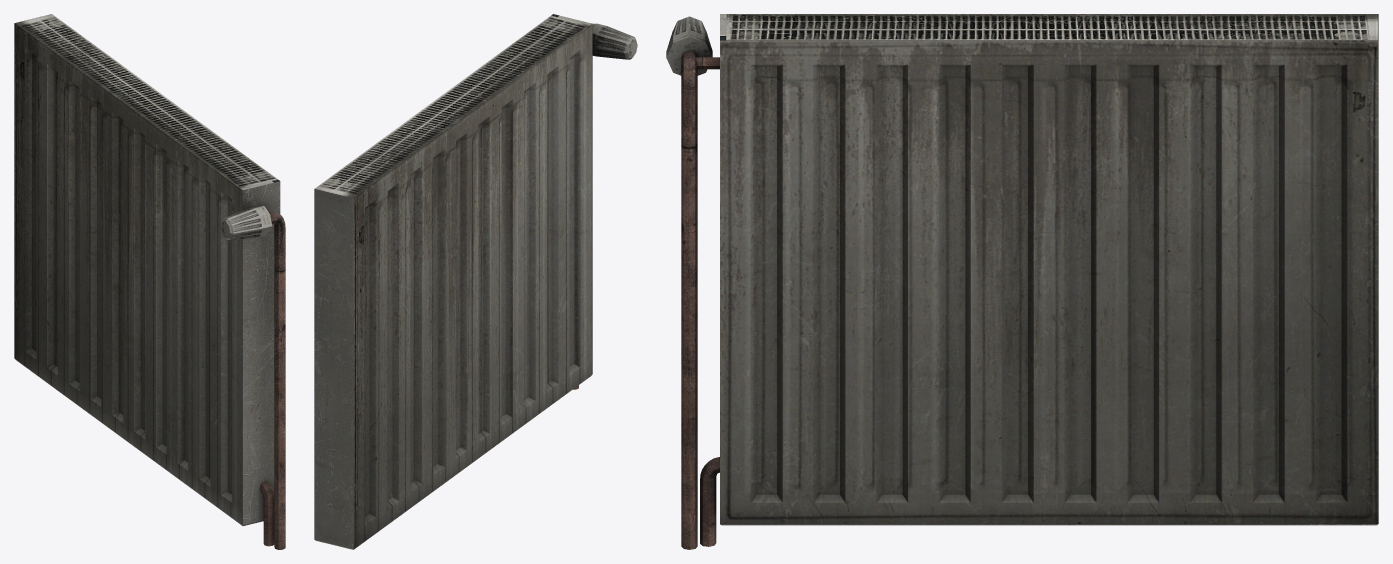
File: Prop_Heater.fbx
The picture shows the model from 3 angles, left to right: view 1: azimuth 30°, elevation 25°; view 2: azimuth 150°, elevation 25°; view 3: azimuth 270°, elevation 25°; orthographic projection. The views are drawn at different scales.
Parts seen in each view (by area): view 1: Cube_020; view 2: Cube_020; view 3: Cube_020.
Part boxes in pixels (x1,y1,x2,y2): Cube_020: (14,14,285,549); Cube_020: (314,14,637,549); Cube_020: (666,14,1378,549).
Bounding box in the file's own units: 1.08 × 5.63 × 7.08.
